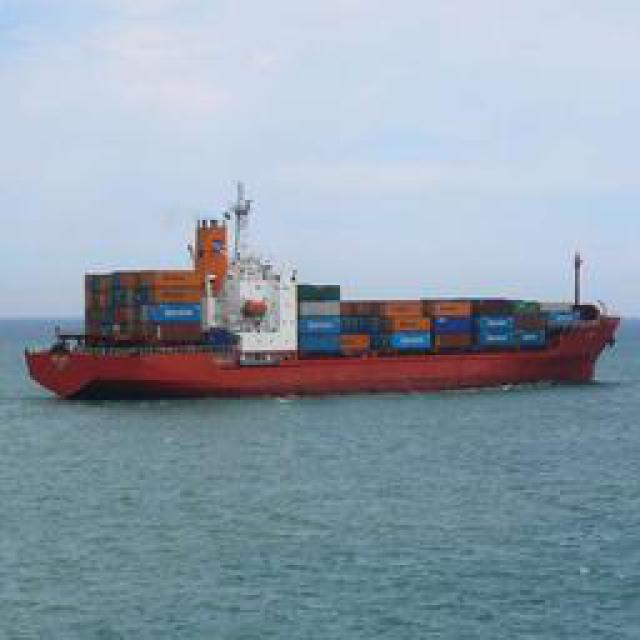Ship: (34, 281, 624, 399)
